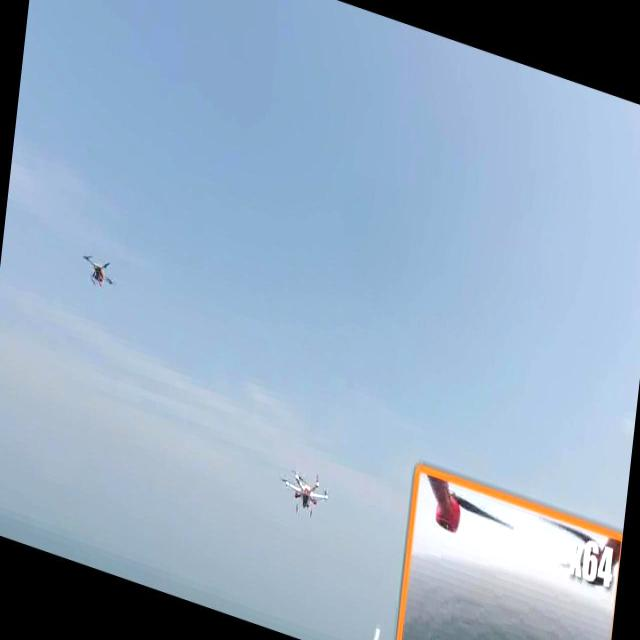drone: (272, 449, 334, 532), (76, 244, 122, 300)
